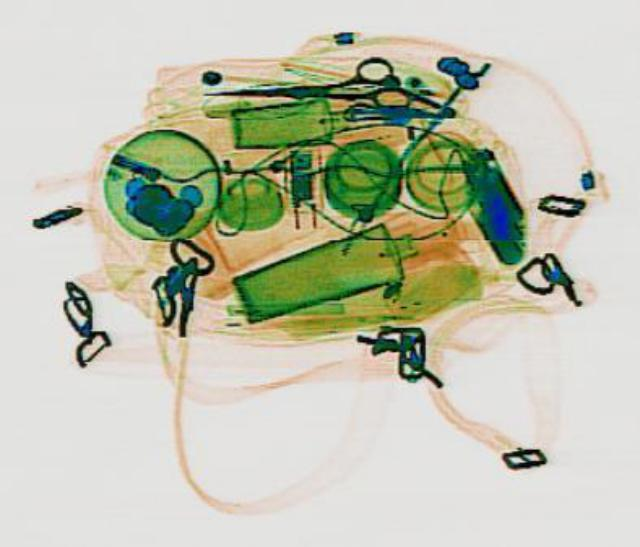Scissors: (198, 53, 410, 117)
